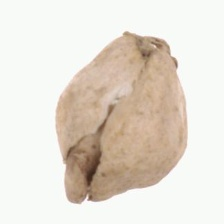L1: (57, 141, 102, 204), (120, 29, 174, 63)
L2: (55, 30, 188, 205)
